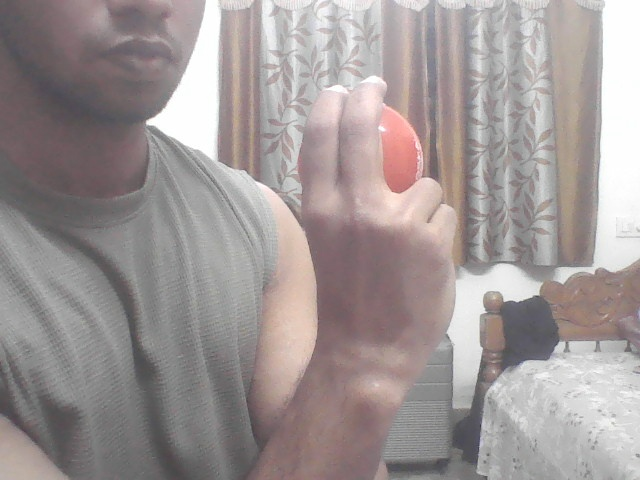cricket_ball: (379, 110, 432, 195)
